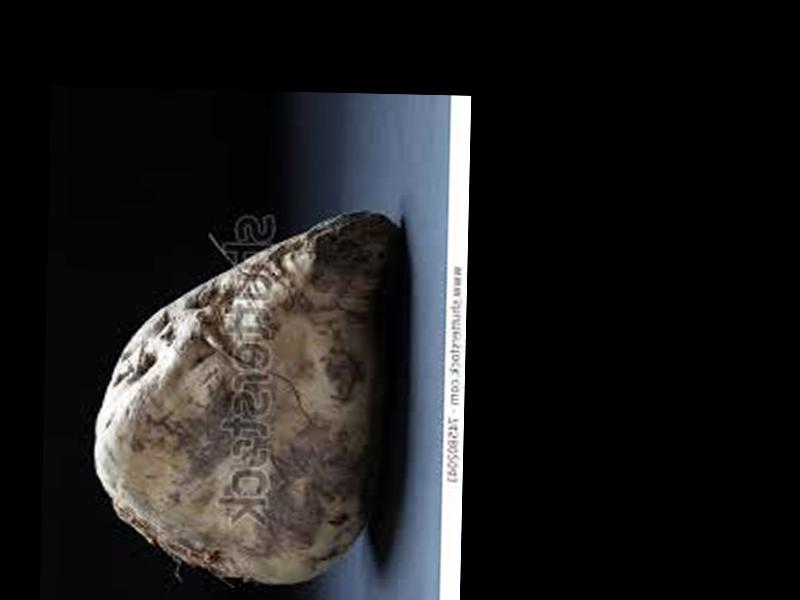Beet: (94, 211, 397, 591)
